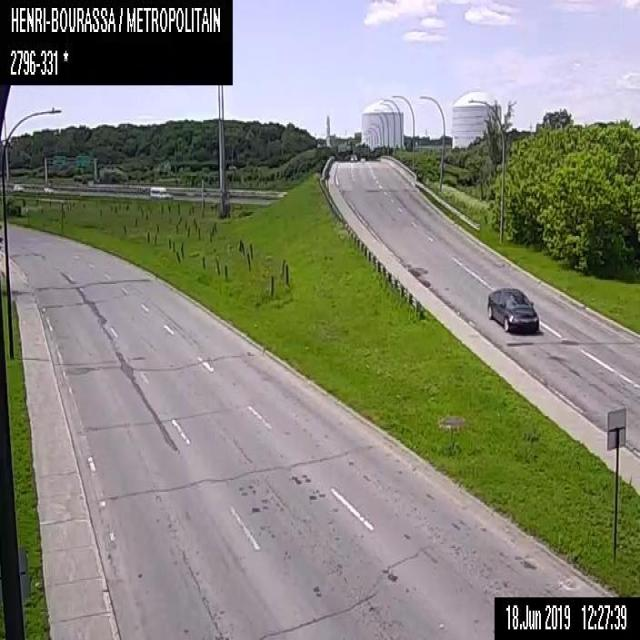vehicle: (486, 284, 539, 331), (148, 183, 169, 197), (42, 185, 52, 192), (14, 182, 22, 190), (350, 154, 356, 161)
